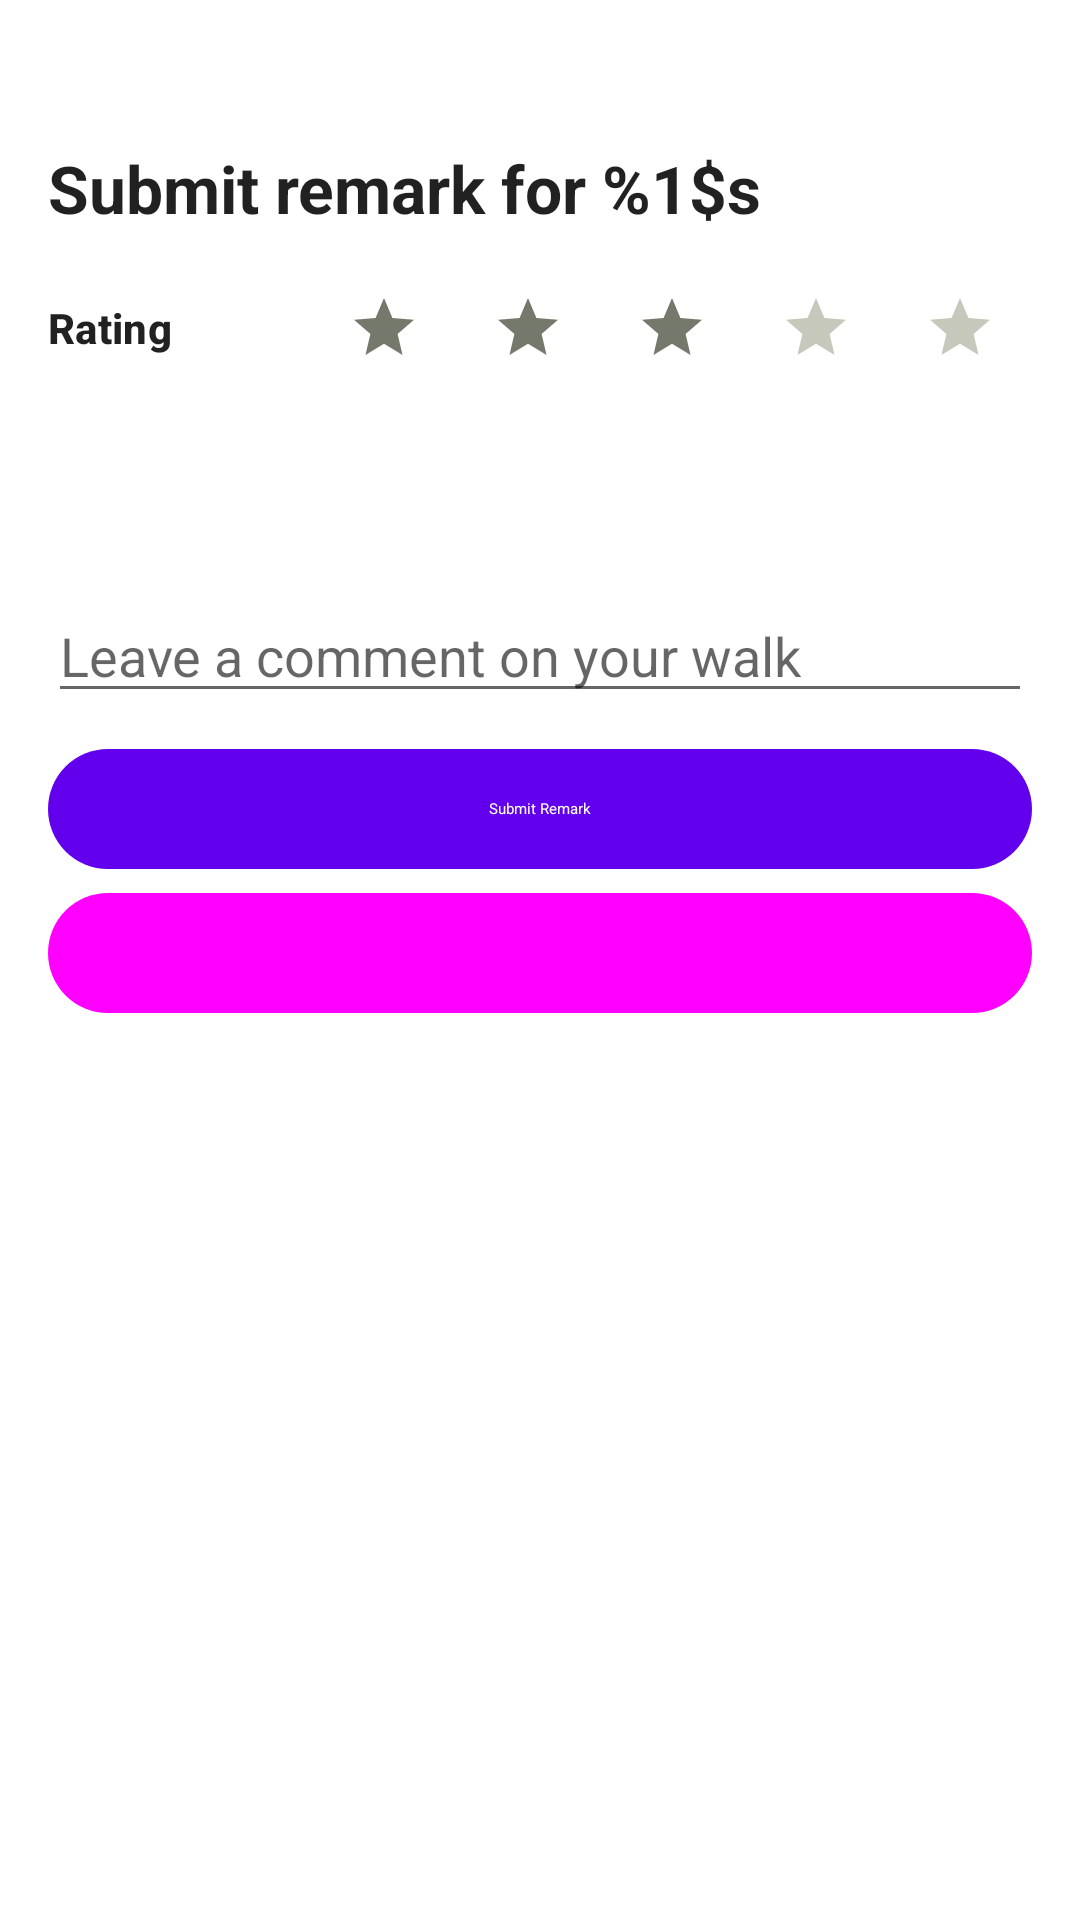

Named icons in this screenshot (1080x1920) and their centers, (x,y):
star: (384,326), (528,326), (672,326), (816,327), (960,327)
